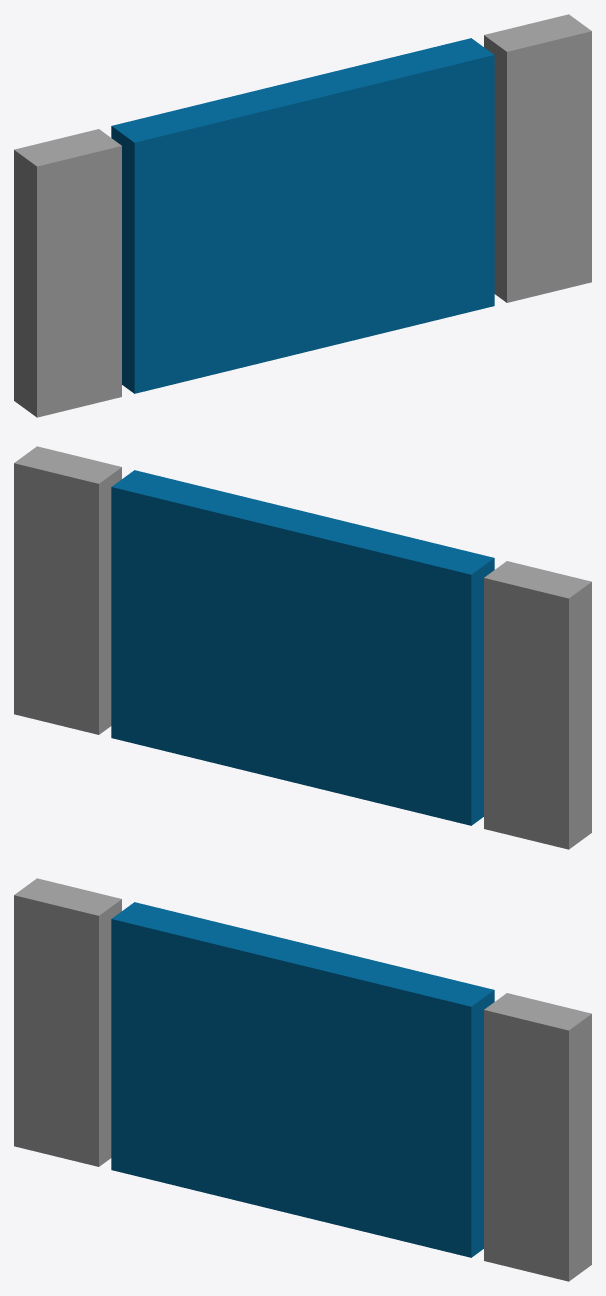
Rendered from hand menu.fbx.
The picture shows the model from 3 angles, top to bottom: view 1: azimuth 30°, elevation 25°; view 2: azimuth 150°, elevation 25°; view 3: azimuth 330°, elevation 25°; orthographic projection.
Parts seen in each view (by area): view 1: pCube1, pCube3, pCube2; view 2: pCube1, pCube3, pCube2; view 3: pCube1, pCube2, pCube3.
Part boxes in pixels (bbox=[...]): pCube1: bbox=[111, 38, 494, 393]; pCube3: bbox=[14, 129, 121, 417]; pCube2: bbox=[484, 14, 591, 302]; pCube1: bbox=[111, 470, 494, 825]; pCube3: bbox=[484, 561, 591, 849]; pCube2: bbox=[14, 446, 121, 734]; pCube1: bbox=[111, 902, 494, 1257]; pCube2: bbox=[484, 993, 591, 1281]; pCube3: bbox=[14, 878, 121, 1166].
Size of the model in its own units: 11.1 by 4.8 by 0.8.
